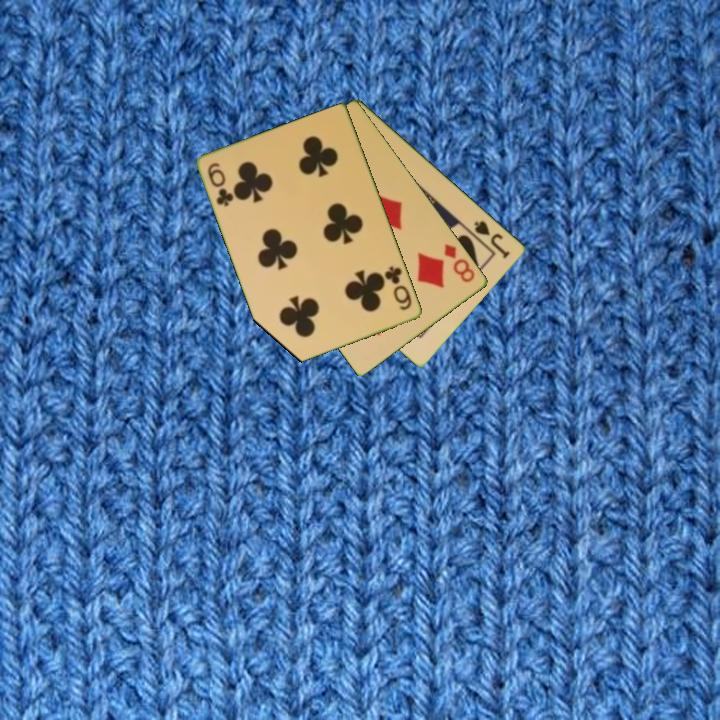6c: (381, 263, 415, 313), (204, 159, 237, 209)
8d: (441, 240, 478, 286)
Js: (470, 217, 513, 262)
